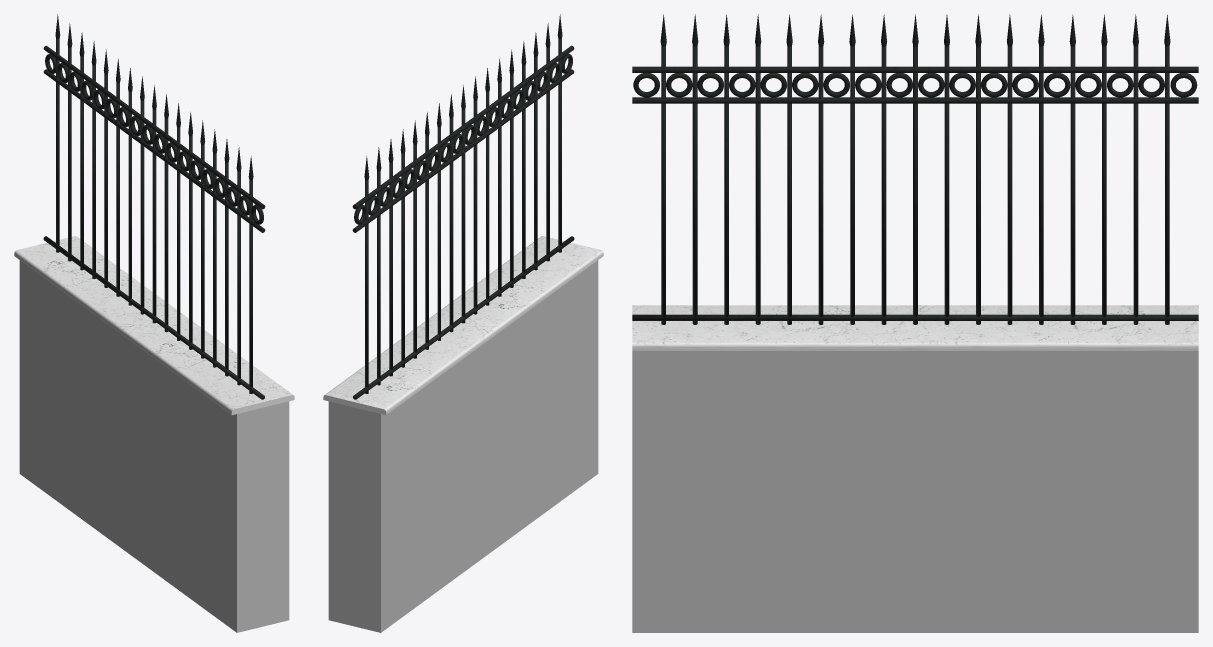
Rendered from Wall.fbx.
3 views of the same model, side by side, from view 1: azimuth 30°, elevation 25°; view 2: azimuth 150°, elevation 25°; view 3: azimuth 270°, elevation 25° (orthographic). The views are drawn at different scales.
Parts seen in each view (by area): view 1: Torus.002; view 2: Torus.002; view 3: Torus.002.
Boxes of the visible parts, x1,y1,x2,y2 form: Torus.002: (14,14,294,632); Torus.002: (323,14,603,632); Torus.002: (632,14,1198,632).
Bounding box in the file's own units: 0.3 × 2.11 × 1.8.
